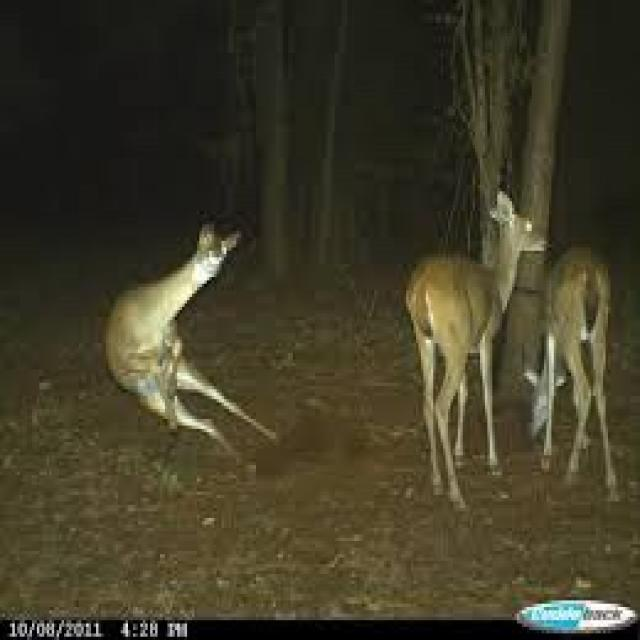elk: (385, 141, 552, 546), (92, 176, 263, 484), (530, 205, 622, 515)
